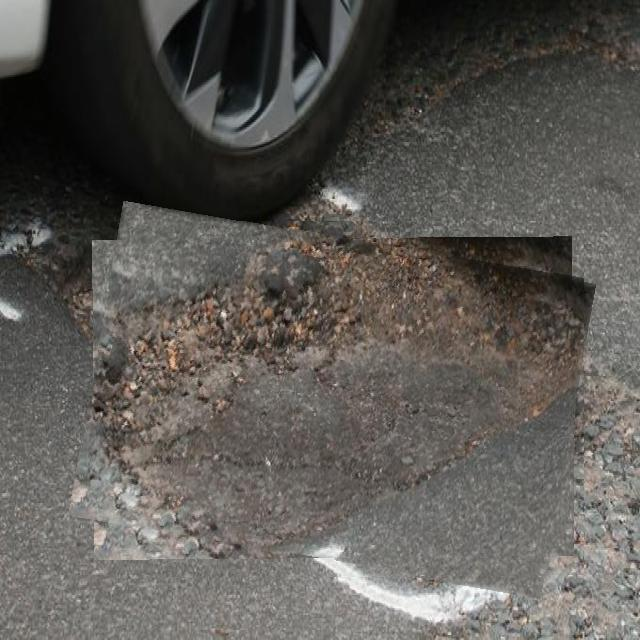Pothole: (80, 221, 584, 579)
